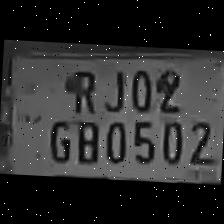0: (154, 114, 184, 166), (99, 116, 128, 164), (126, 64, 153, 113)
2: (182, 116, 215, 169), (152, 64, 182, 110)
5: (128, 116, 157, 165)
B: (72, 116, 99, 163)
G: (45, 117, 74, 164)
J: (99, 64, 126, 112)
R: (62, 64, 98, 114)
